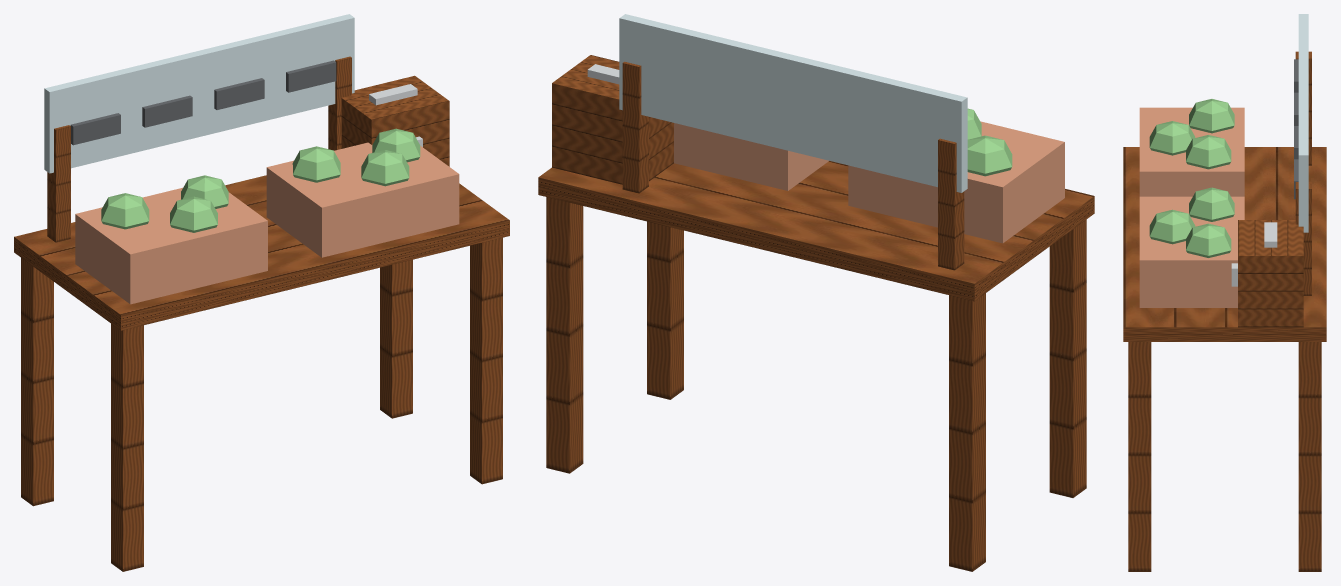
The model's file is allotments-and-community-garden-honesty-box-stall-d5d096f3__35172.glb.
3 renders of one model, left to right at view 1: azimuth 30°, elevation 25°; view 2: azimuth 150°, elevation 25°; view 3: azimuth 270°, elevation 25°, orthographic. The views are drawn at different scales.
Parts seen in each view (by area): view 1: honesty-box-stall-timber, honesty-box-stall-terracotta, honesty-box-stall-glass, honesty-box-stall-leaf, honesty-box-stall-charcoal, honesty-box-stall-galv; view 2: honesty-box-stall-timber, honesty-box-stall-glass, honesty-box-stall-terracotta, honesty-box-stall-leaf; view 3: honesty-box-stall-timber, honesty-box-stall-terracotta, honesty-box-stall-leaf, honesty-box-stall-glass, honesty-box-stall-charcoal, honesty-box-stall-galv.
Part boxes in pixels (left/top/right/bottom): honesty-box-stall-timber: left=14, top=56, right=509, bottom=571; honesty-box-stall-terracotta: left=75, top=142, right=459, bottom=304; honesty-box-stall-glass: left=44, top=14, right=354, bottom=173; honesty-box-stall-leaf: left=101, top=128, right=420, bottom=232; honesty-box-stall-charcoal: left=70, top=60, right=336, bottom=145; honesty-box-stall-galv: left=369, top=84, right=422, bottom=146; honesty-box-stall-timber: left=538, top=55, right=1094, bottom=571; honesty-box-stall-glass: left=619, top=14, right=967, bottom=192; honesty-box-stall-terracotta: left=674, top=121, right=1064, bottom=243; honesty-box-stall-leaf: left=967, top=108, right=1012, bottom=176; honesty-box-stall-timber: left=1123, top=51, right=1326, bottom=571; honesty-box-stall-terracotta: left=1139, top=107, right=1244, bottom=307; honesty-box-stall-leaf: left=1149, top=99, right=1234, bottom=257; honesty-box-stall-glass: left=1298, top=14, right=1308, bottom=232; honesty-box-stall-charcoal: left=1294, top=59, right=1298, bottom=199; honesty-box-stall-galv: left=1231, top=222, right=1277, bottom=286.
Size of the model in its own units: 1.3 by 1.31 by 0.6199.
6 materials, 1 textured.
